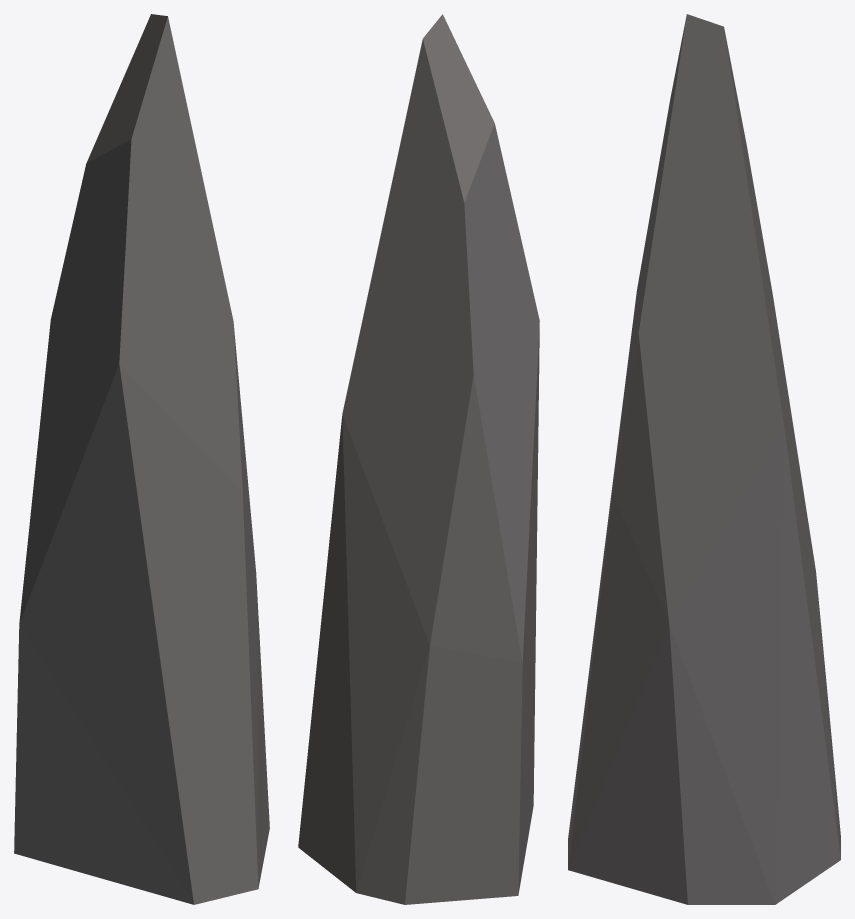
Rendered from Rock_Sharp_s_10.fbx.
3 renders of one model, left to right at view 1: azimuth 30°, elevation 25°; view 2: azimuth 150°, elevation 25°; view 3: azimuth 270°, elevation 25°, orthographic.
Visible parts, largest first — view 1: Rock_Sharp_s_10; view 2: Rock_Sharp_s_10; view 3: Rock_Sharp_s_10.
Boxes of the visible parts, x1,y1,x2,y2 form: Rock_Sharp_s_10: [14, 14, 269, 904]; Rock_Sharp_s_10: [298, 14, 539, 904]; Rock_Sharp_s_10: [568, 14, 840, 904].
Size of the model in its own units: 22.57 by 82.94 by 24.39.
